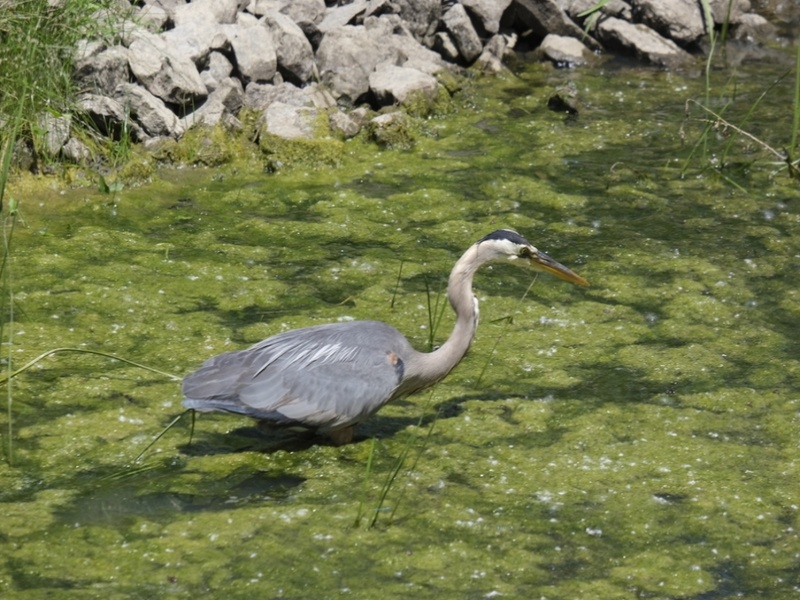heron: (179, 221, 591, 458)
